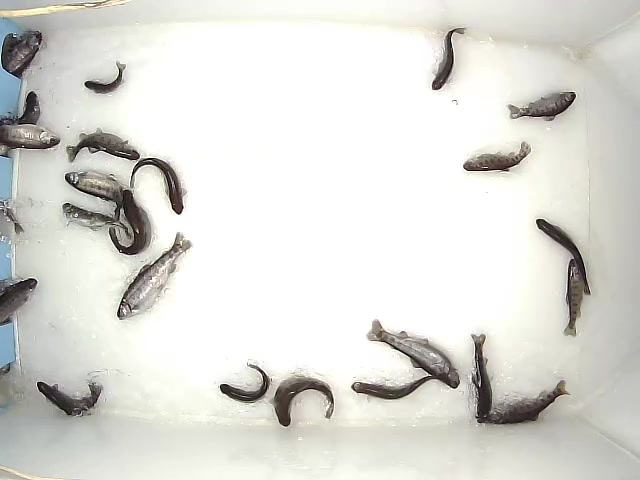fish: (365, 318, 462, 390), (116, 231, 193, 320), (535, 217, 594, 295), (488, 378, 571, 424), (130, 156, 188, 215), (272, 374, 335, 428), (64, 169, 123, 221), (108, 189, 153, 256), (65, 126, 140, 163), (350, 373, 448, 401), (219, 356, 273, 404), (35, 381, 104, 418), (62, 202, 131, 237), (505, 90, 577, 122), (431, 27, 467, 91), (462, 141, 533, 173), (469, 332, 492, 424), (562, 259, 585, 337), (82, 59, 128, 95), (1, 123, 62, 150)
